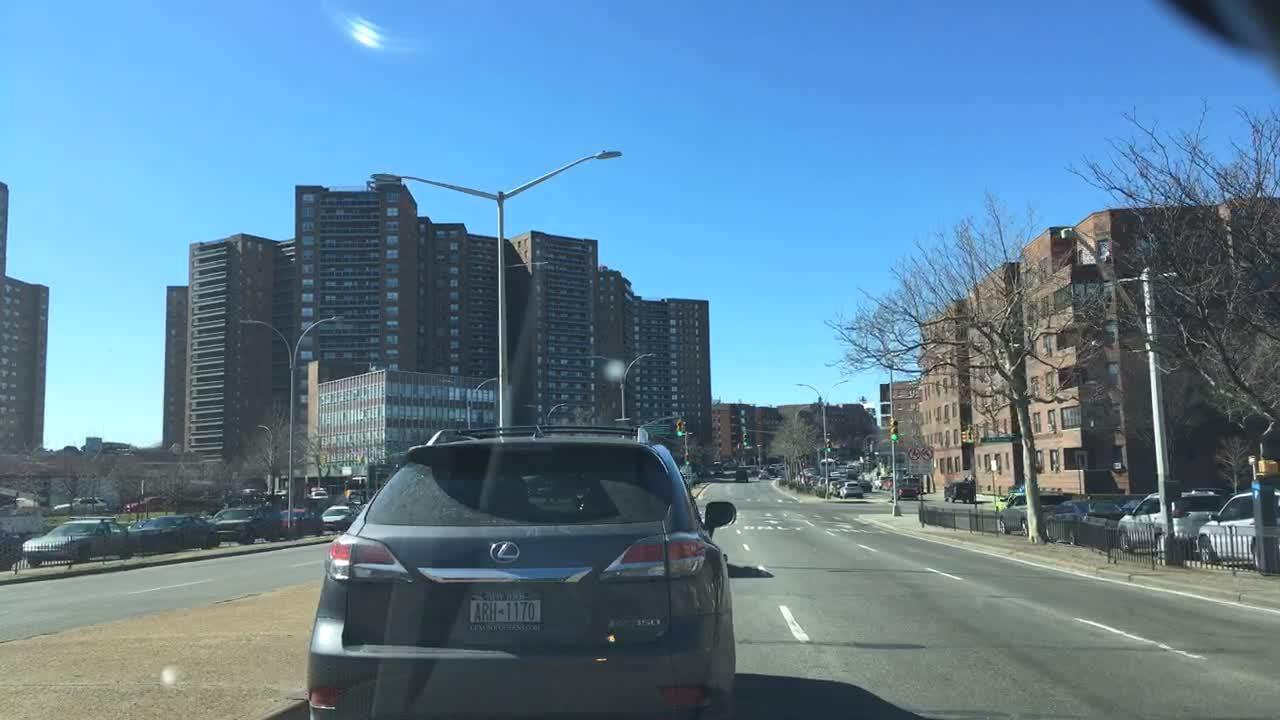lexus: (483, 536, 528, 570)
